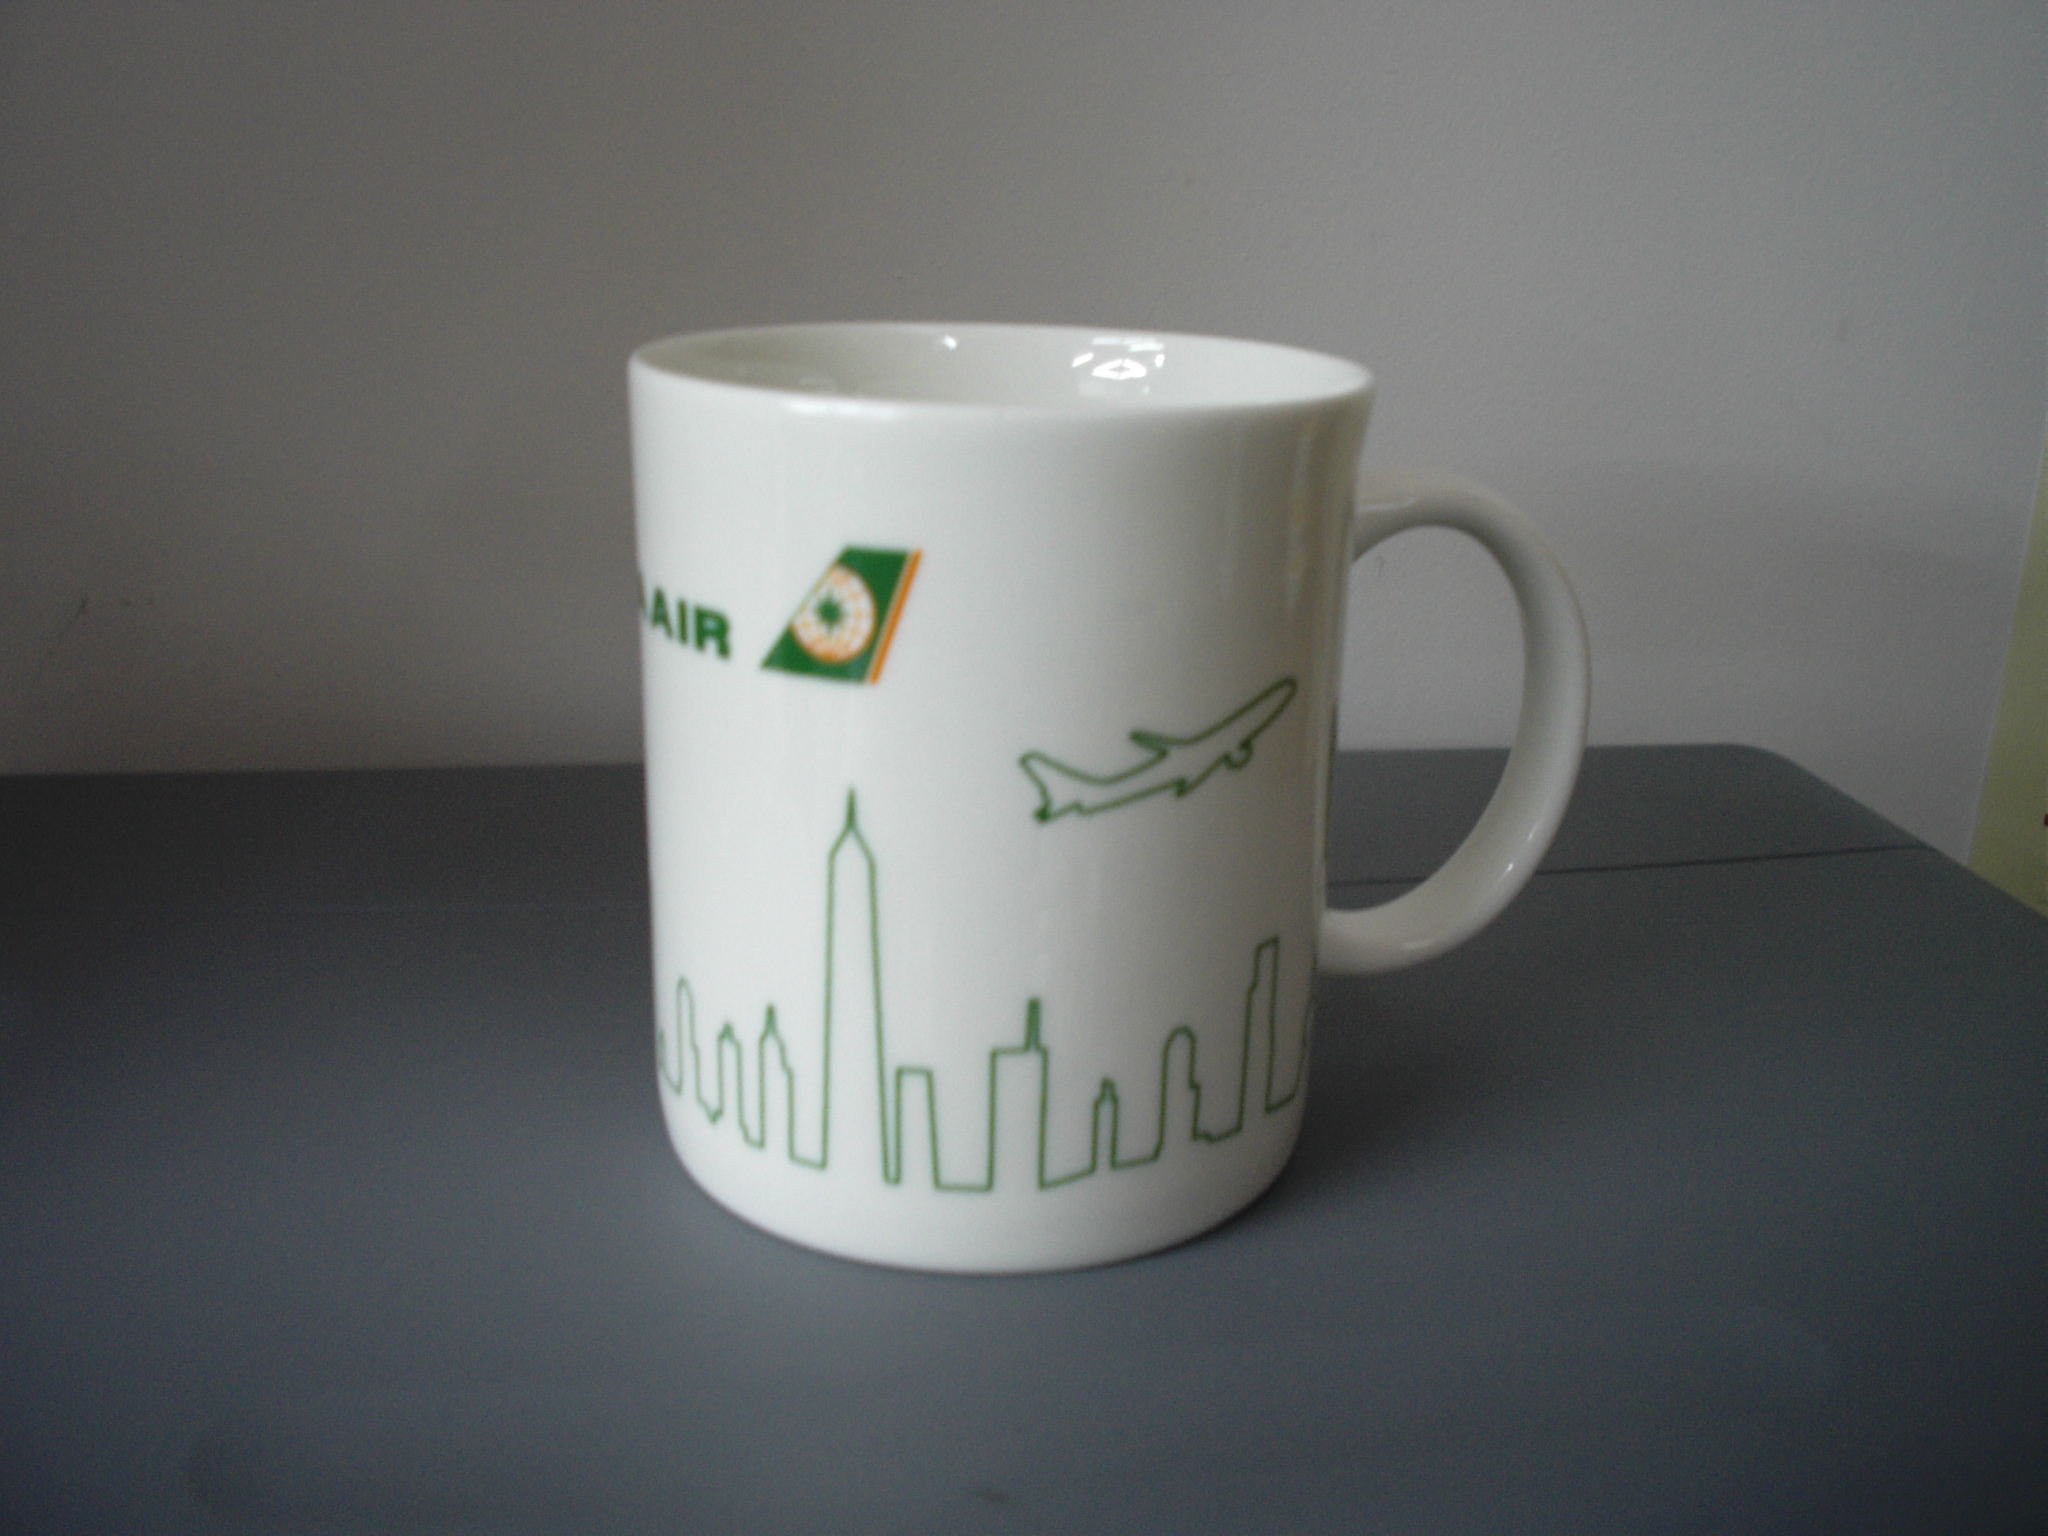cup: (613, 310, 1596, 1279)
